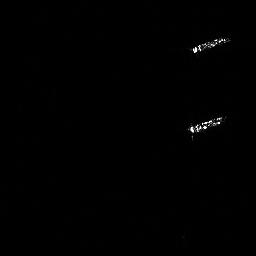ship: (187, 114, 224, 140), (190, 36, 228, 55)
